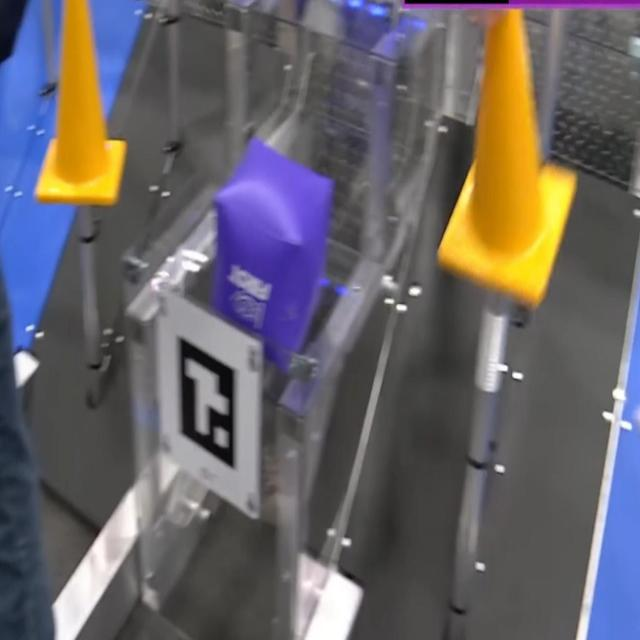frc_cone: (437, 0, 576, 307), (34, 0, 128, 202)
frc_cube: (214, 138, 334, 378)
